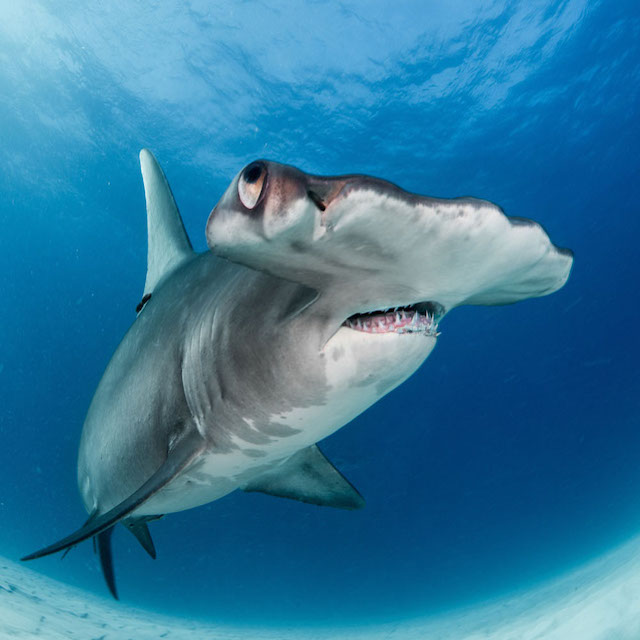hammerhead: (16, 142, 574, 607)
